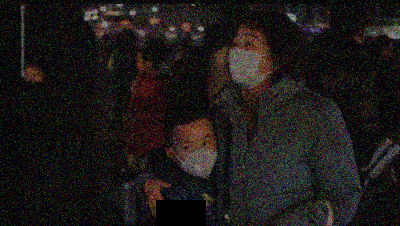with_mask: (227, 29, 270, 89), (175, 130, 216, 178)
without_mask: (134, 54, 146, 75)
